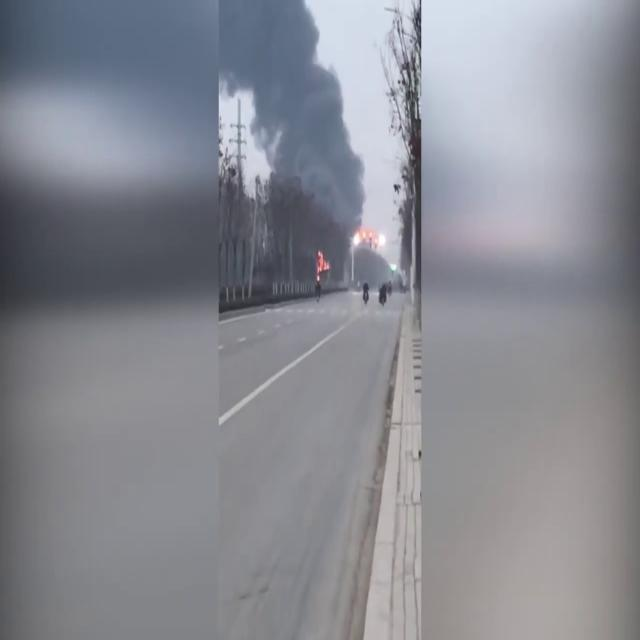Fire: (351, 220, 388, 254), (314, 245, 330, 282)
Smoke: (220, 1, 370, 264)
